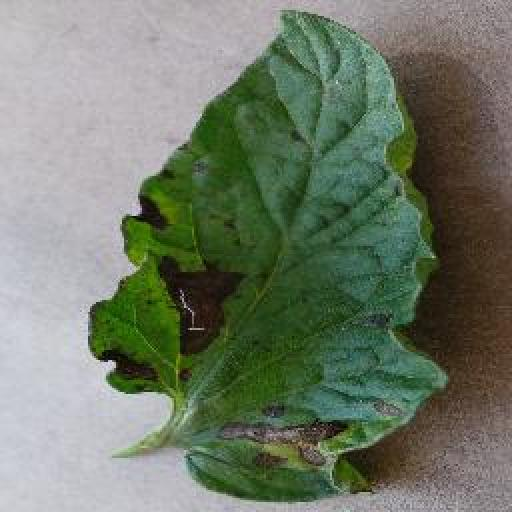disease_tomato: (87, 11, 452, 505)
